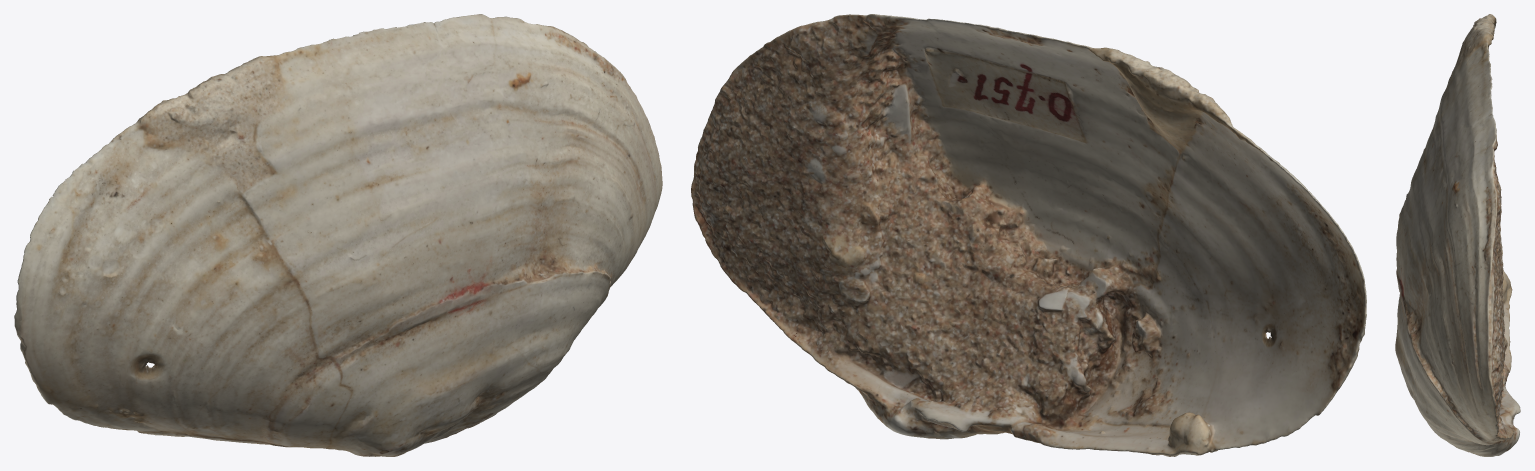
Rendered from EWS0014146.glb.
The picture shows the model from 3 angles, left to right: view 1: azimuth 30°, elevation 25°; view 2: azimuth 150°, elevation 25°; view 3: azimuth 270°, elevation 25°; orthographic projection. The views are drawn at different scales.
Parts seen in each view (by area): view 1: input; view 2: input; view 3: input.
Boxes of the visible parts, left/top/right/bottom form: input: left=14, top=14, right=662, bottom=456; input: left=691, top=14, right=1366, bottom=456; input: left=1395, top=14, right=1520, bottom=456.
Bounding box in the file's own units: 0.0384 × 0.0235 × 0.00777.
Materials: 1 (1 with a texture image).
